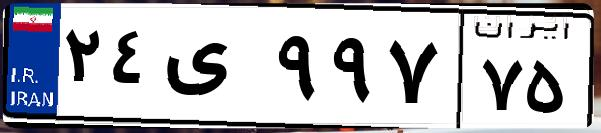2: (57, 26, 110, 100)
4: (110, 28, 158, 98)
5: (525, 38, 570, 115)
7: (385, 28, 445, 110), (475, 38, 525, 113)
9: (270, 28, 330, 110), (330, 28, 385, 110)
ی: (158, 20, 270, 120)
